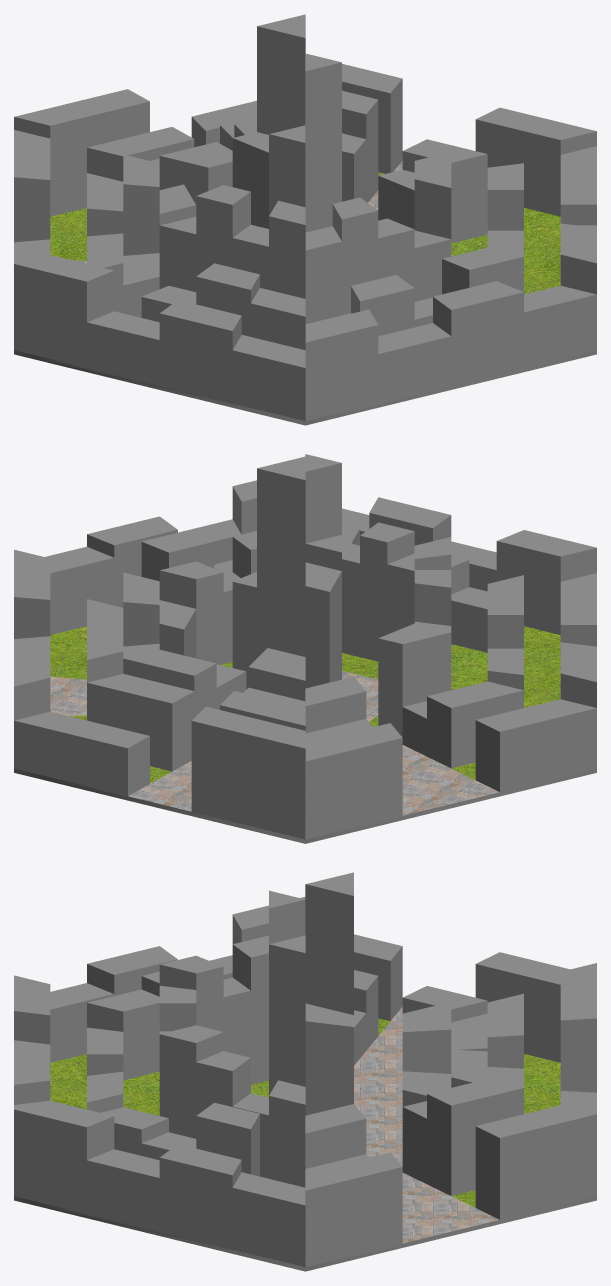
3 views of the same model, one above another, from view 1: azimuth 30°, elevation 25°; view 2: azimuth 150°, elevation 25°; view 3: azimuth 270°, elevation 25° (orthographic).
Parts seen in each view (by area): view 1: Cylinder041; view 2: Cylinder041; view 3: Cylinder041.
Part boxes in pixels (bbox=[...]): Cylinder041: bbox=[14, 14, 596, 425]; Cylinder041: bbox=[14, 454, 596, 843]; Cylinder041: bbox=[14, 872, 596, 1271].
Bounding box in the file's own units: 140 × 56.27 × 121.
Materials: 5 (2 with a texture image).
